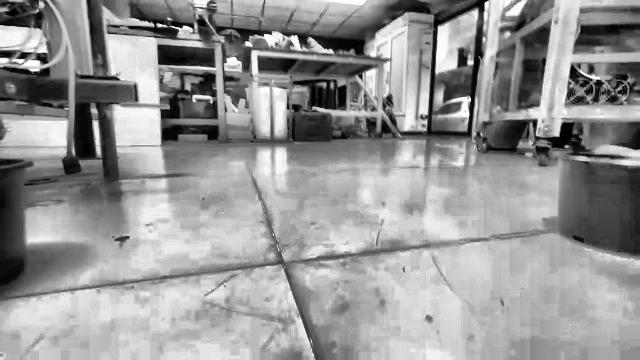pot: (559, 149, 639, 257), (558, 151, 639, 256), (0, 159, 32, 284)
